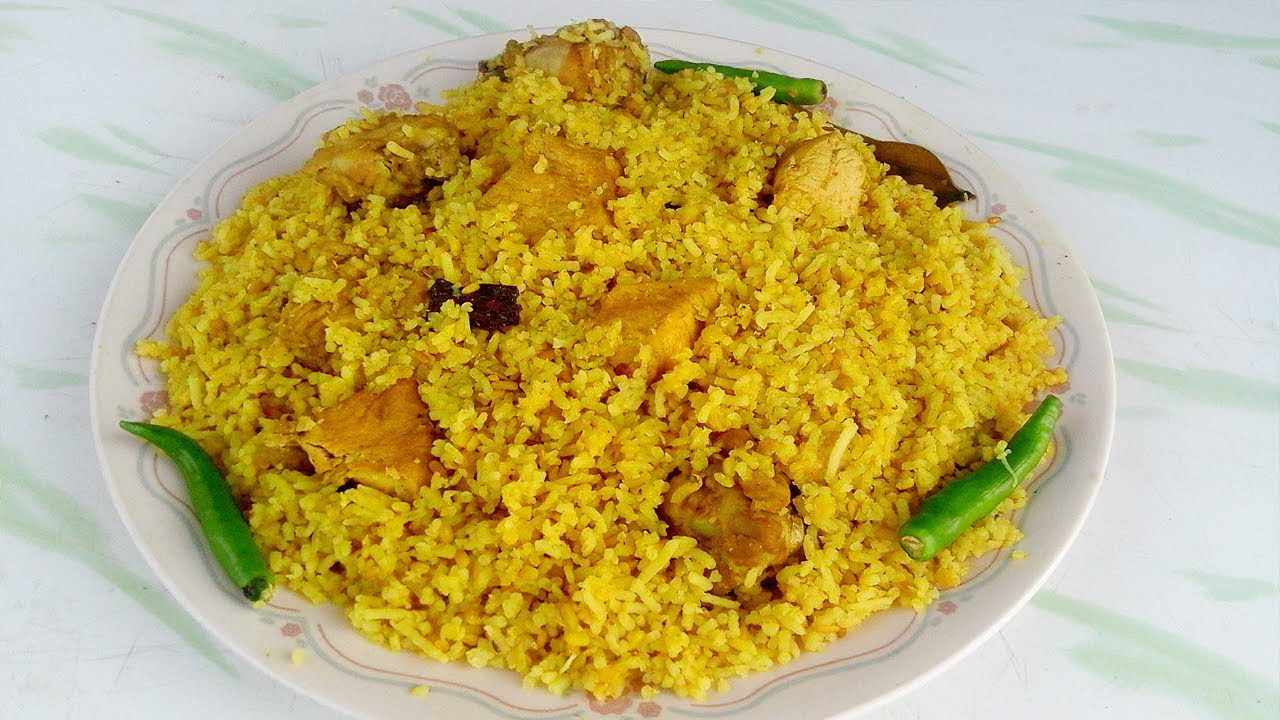khichuri: (173, 74, 1050, 682)
